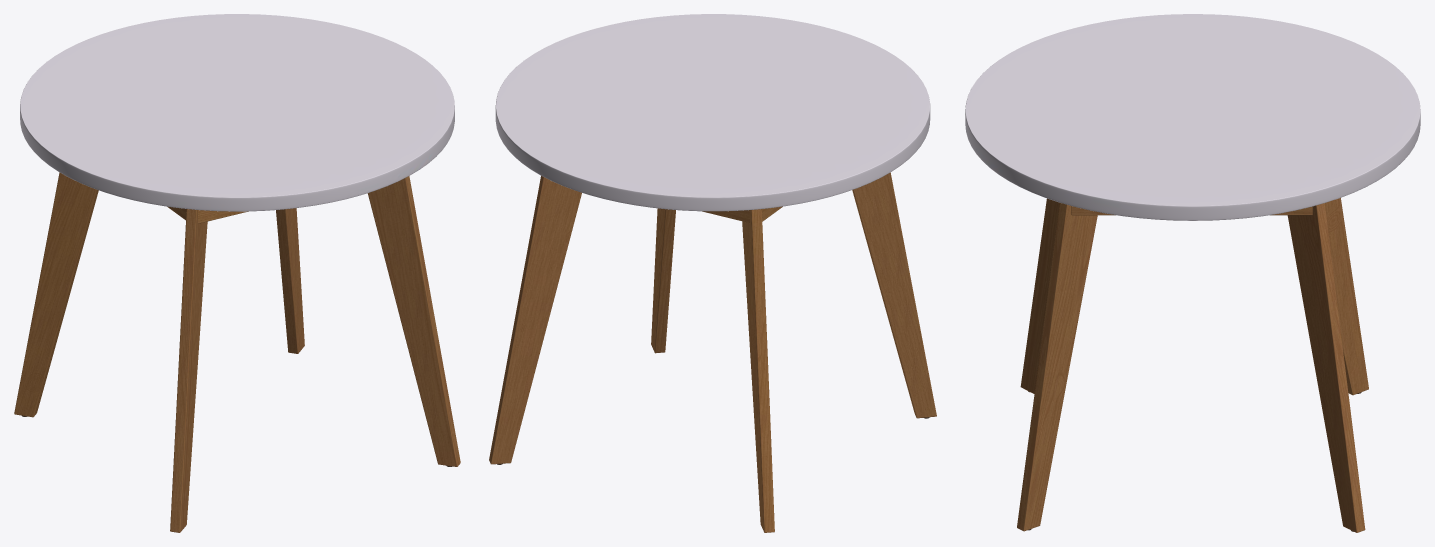
Rendered from abo_B0853Q3Z93.glb.
3 views of the same model, side by side, from view 1: azimuth 30°, elevation 25°; view 2: azimuth 150°, elevation 25°; view 3: azimuth 270°, elevation 25° (orthographic). The views are drawn at different scales.
Parts seen in each view (by area): view 1: RootNode; view 2: RootNode; view 3: RootNode.
Boxes of the visible parts, x1,y1,x2,y2 form: RootNode: [14, 14, 460, 532]; RootNode: [489, 14, 936, 532]; RootNode: [965, 14, 1420, 532].
Bounding box in the file's own units: 0.8963 × 0.762 × 0.8963.
Materials: 1 (1 with a texture image).
